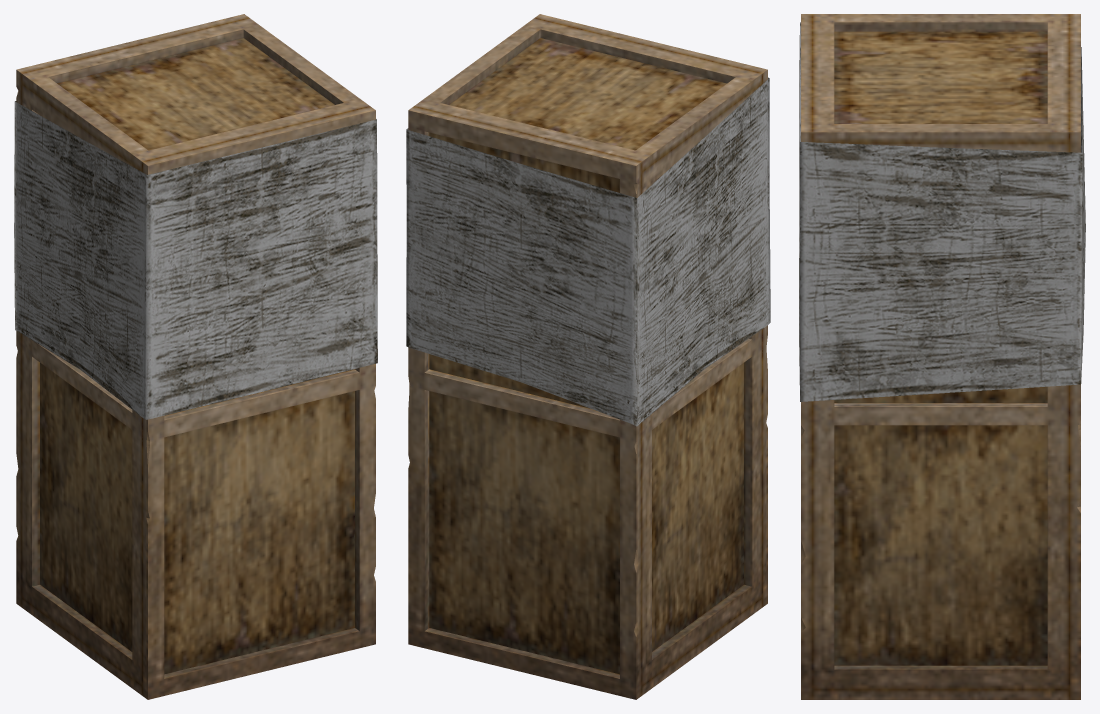
The model's file is SM_Crate04.fbx.
3 views of the same model, side by side, from view 1: azimuth 30°, elevation 25°; view 2: azimuth 150°, elevation 25°; view 3: azimuth 270°, elevation 25° (orthographic). The views are drawn at different scales.
Visible parts, largest first — view 1: SM_Crate03_B.mo; view 2: SM_Crate03_B.mo; view 3: SM_Crate03_B.mo.
Boxes of the visible parts, x1,y1,x2,y2 form: SM_Crate03_B.mo: (14, 14, 377, 699); SM_Crate03_B.mo: (406, 14, 770, 699); SM_Crate03_B.mo: (799, 14, 1085, 699).
Bounding box in the file's own units: 86.19 × 188 × 86.09.
